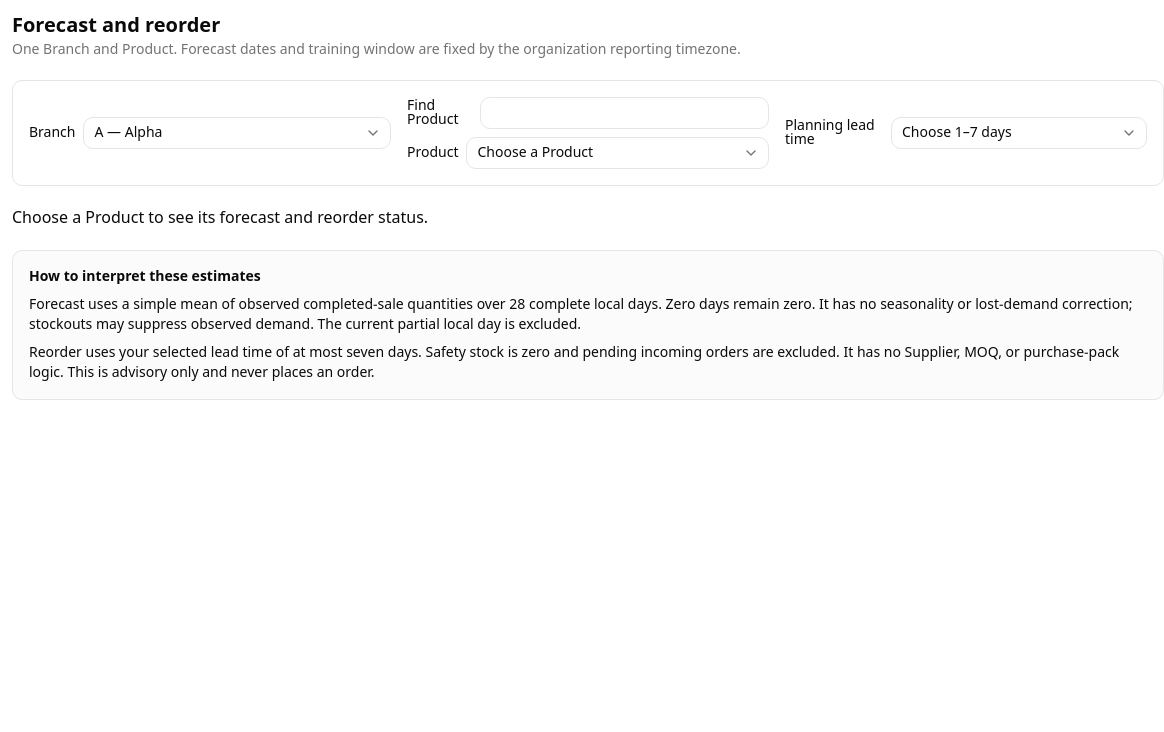
it: Forecast and reorder view › announces loading without showing a stale value
Select "ONE — One" in the dropdown labelled "Product": [618, 153] box 466,137 -> 769,169
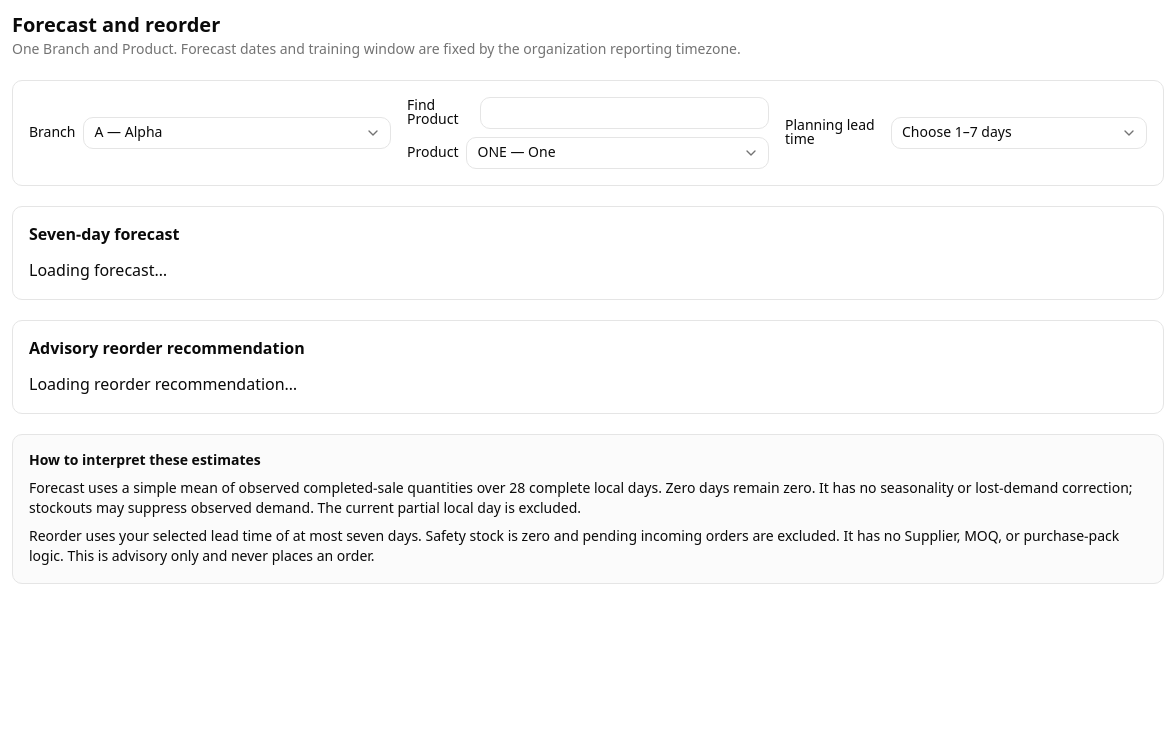
expect the text "Loading forecast…" is shown: met, box 29,259 -> 167,283
expect the text "Loading reorder recommendation…" is shown: met, box 29,373 -> 297,397
